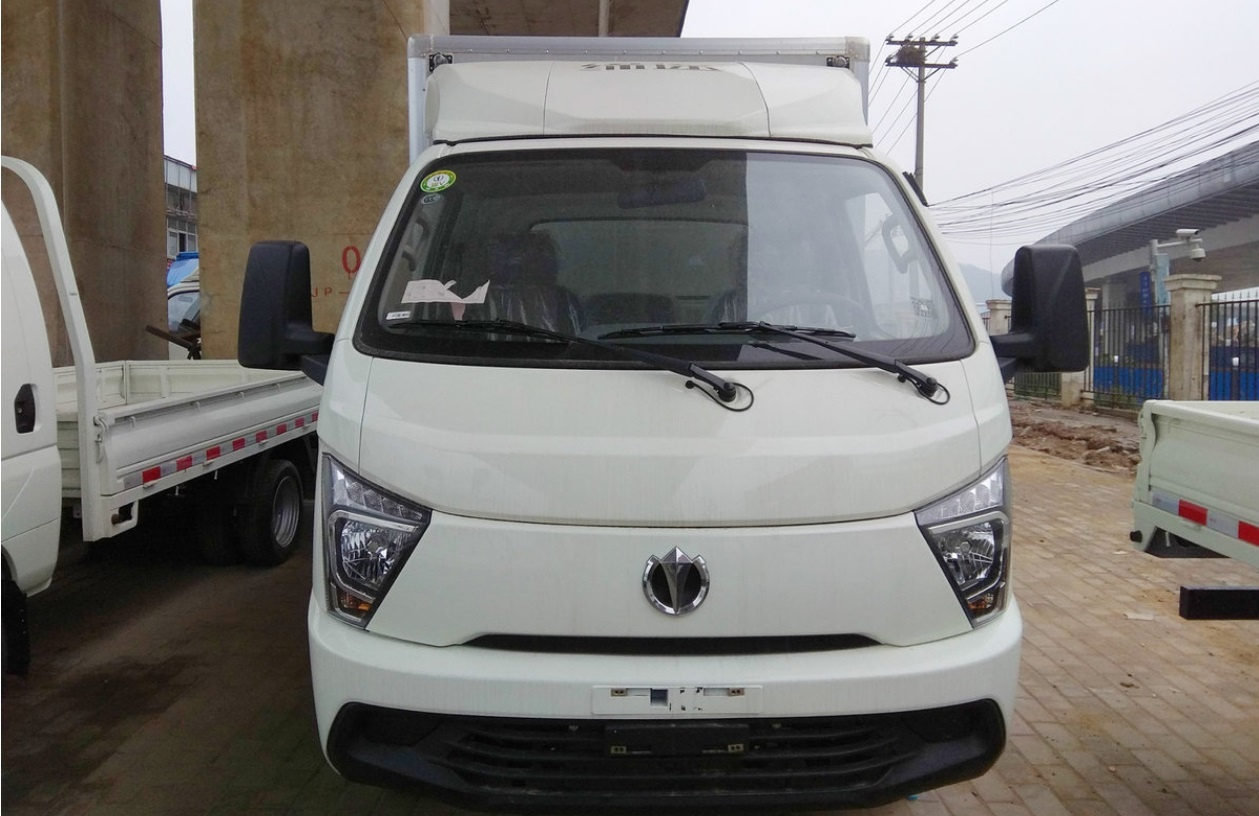truck: (253, 32, 1051, 816)
